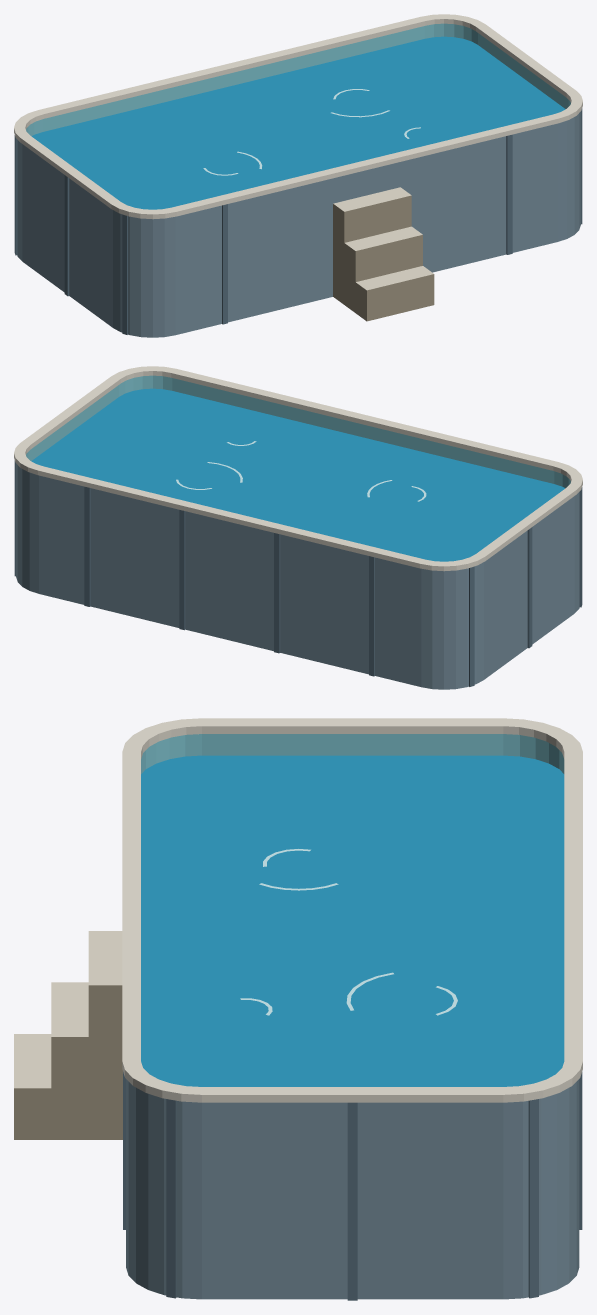
File: pool_oval.glb
3 views of the same model, one above another, from view 1: azimuth 30°, elevation 25°; view 2: azimuth 150°, elevation 25°; view 3: azimuth 270°, elevation 25° (orthographic). The views are drawn at different scales.
Parts seen in each view (by area): view 1: pool_oval; view 2: pool_oval; view 3: pool_oval.
Boxes of the visible parts, box(x1,y1,x2,y2) form: pool_oval: box(14, 14, 582, 337); pool_oval: box(14, 366, 582, 689); pool_oval: box(14, 718, 582, 1300).
Size of the model in its own units: 6.21 by 1.58 by 3.96.
